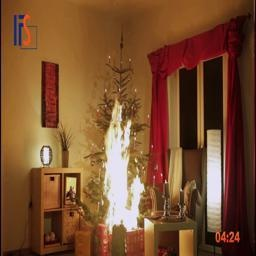fire: (88, 92, 160, 230)
